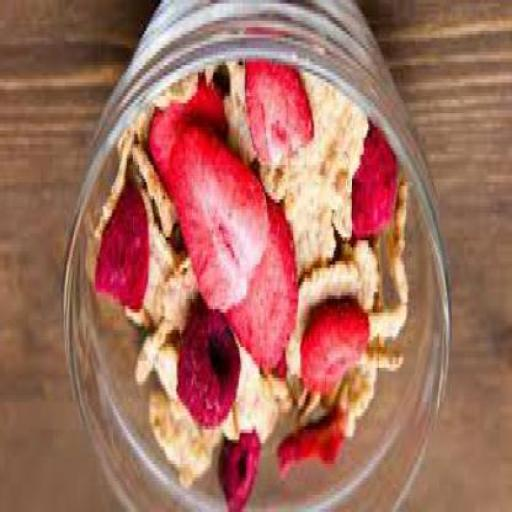biodegradable: (174, 130, 270, 316), (225, 202, 301, 375), (286, 264, 366, 378), (150, 92, 230, 203), (95, 171, 151, 316), (248, 64, 317, 176), (178, 309, 242, 429), (124, 189, 175, 337), (302, 306, 374, 402), (150, 392, 216, 488), (322, 106, 367, 237), (353, 117, 400, 237), (292, 83, 342, 189), (284, 179, 336, 275), (132, 147, 182, 241), (279, 419, 346, 481), (97, 141, 136, 247), (218, 433, 263, 511), (226, 72, 258, 172), (338, 374, 380, 443), (236, 382, 278, 446), (258, 166, 307, 220), (388, 185, 410, 302), (136, 324, 172, 395), (165, 261, 198, 337), (353, 241, 383, 323), (143, 93, 204, 124), (358, 354, 406, 388), (367, 312, 411, 344), (156, 347, 182, 399), (271, 382, 305, 419), (133, 110, 157, 147), (299, 398, 321, 436), (320, 395, 336, 420)
glass: (63, 4, 454, 510)
